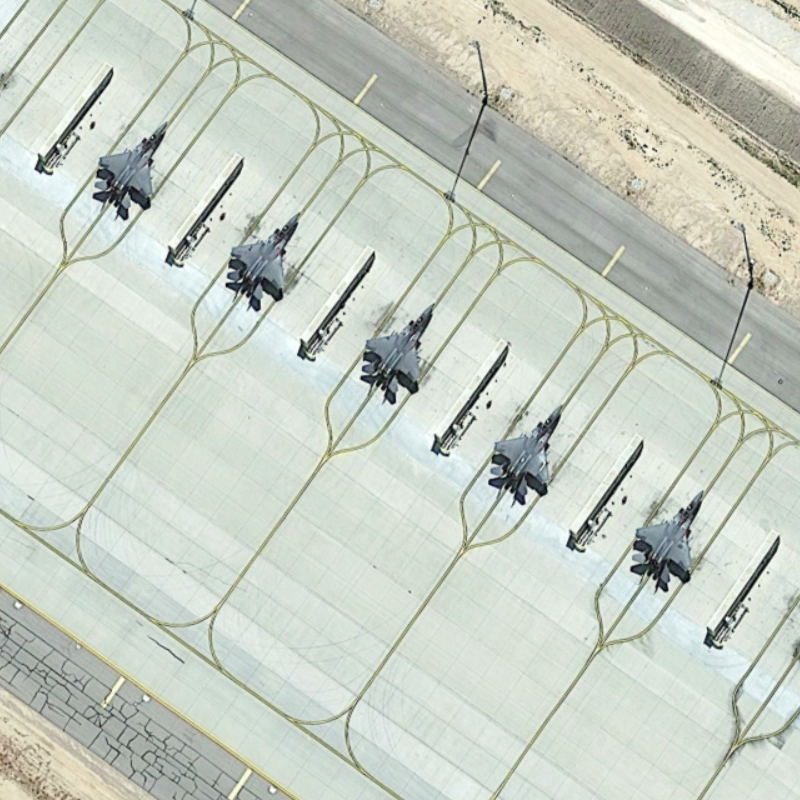A13: (215, 199, 306, 318), (482, 395, 567, 510), (354, 290, 438, 406), (91, 113, 173, 223), (629, 485, 709, 593)
